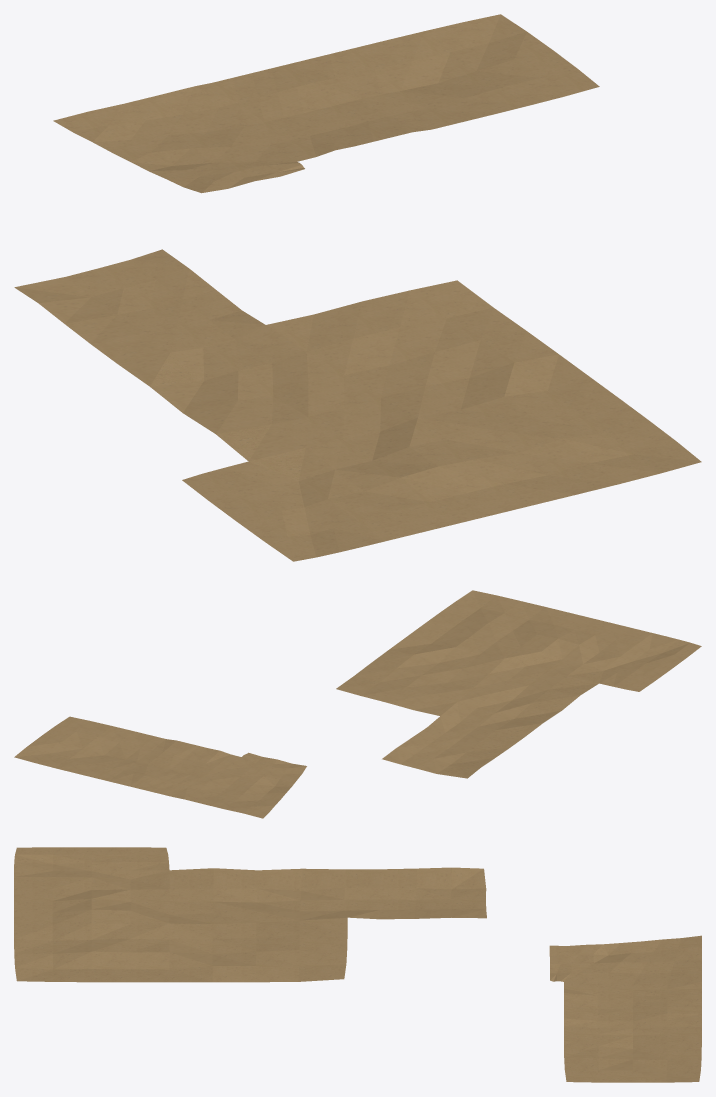
The model's file is SM_ENV_KNVLLG_ground_09.fbx.
3 views of the same model, one above another, from view 1: azimuth 30°, elevation 25°; view 2: azimuth 150°, elevation 25°; view 3: azimuth 270°, elevation 25° (orthographic). The views are drawn at different scales.
Visible parts, largest first — view 1: SM_ENV_KNVLLG_ground_09.mo; view 2: SM_ENV_KNVLLG_ground_09.mo; view 3: SM_ENV_KNVLLG_ground_09.mo.
Boxes of the visible parts, x1,y1,x2,y2 form: SM_ENV_KNVLLG_ground_09.mo: [14, 14, 701, 561]; SM_ENV_KNVLLG_ground_09.mo: [14, 590, 701, 818]; SM_ENV_KNVLLG_ground_09.mo: [14, 847, 701, 1082].
Size of the model in its own units: 14495 by 209 by 17888.
